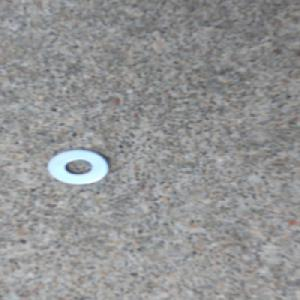Washer: (45, 147, 113, 187)
